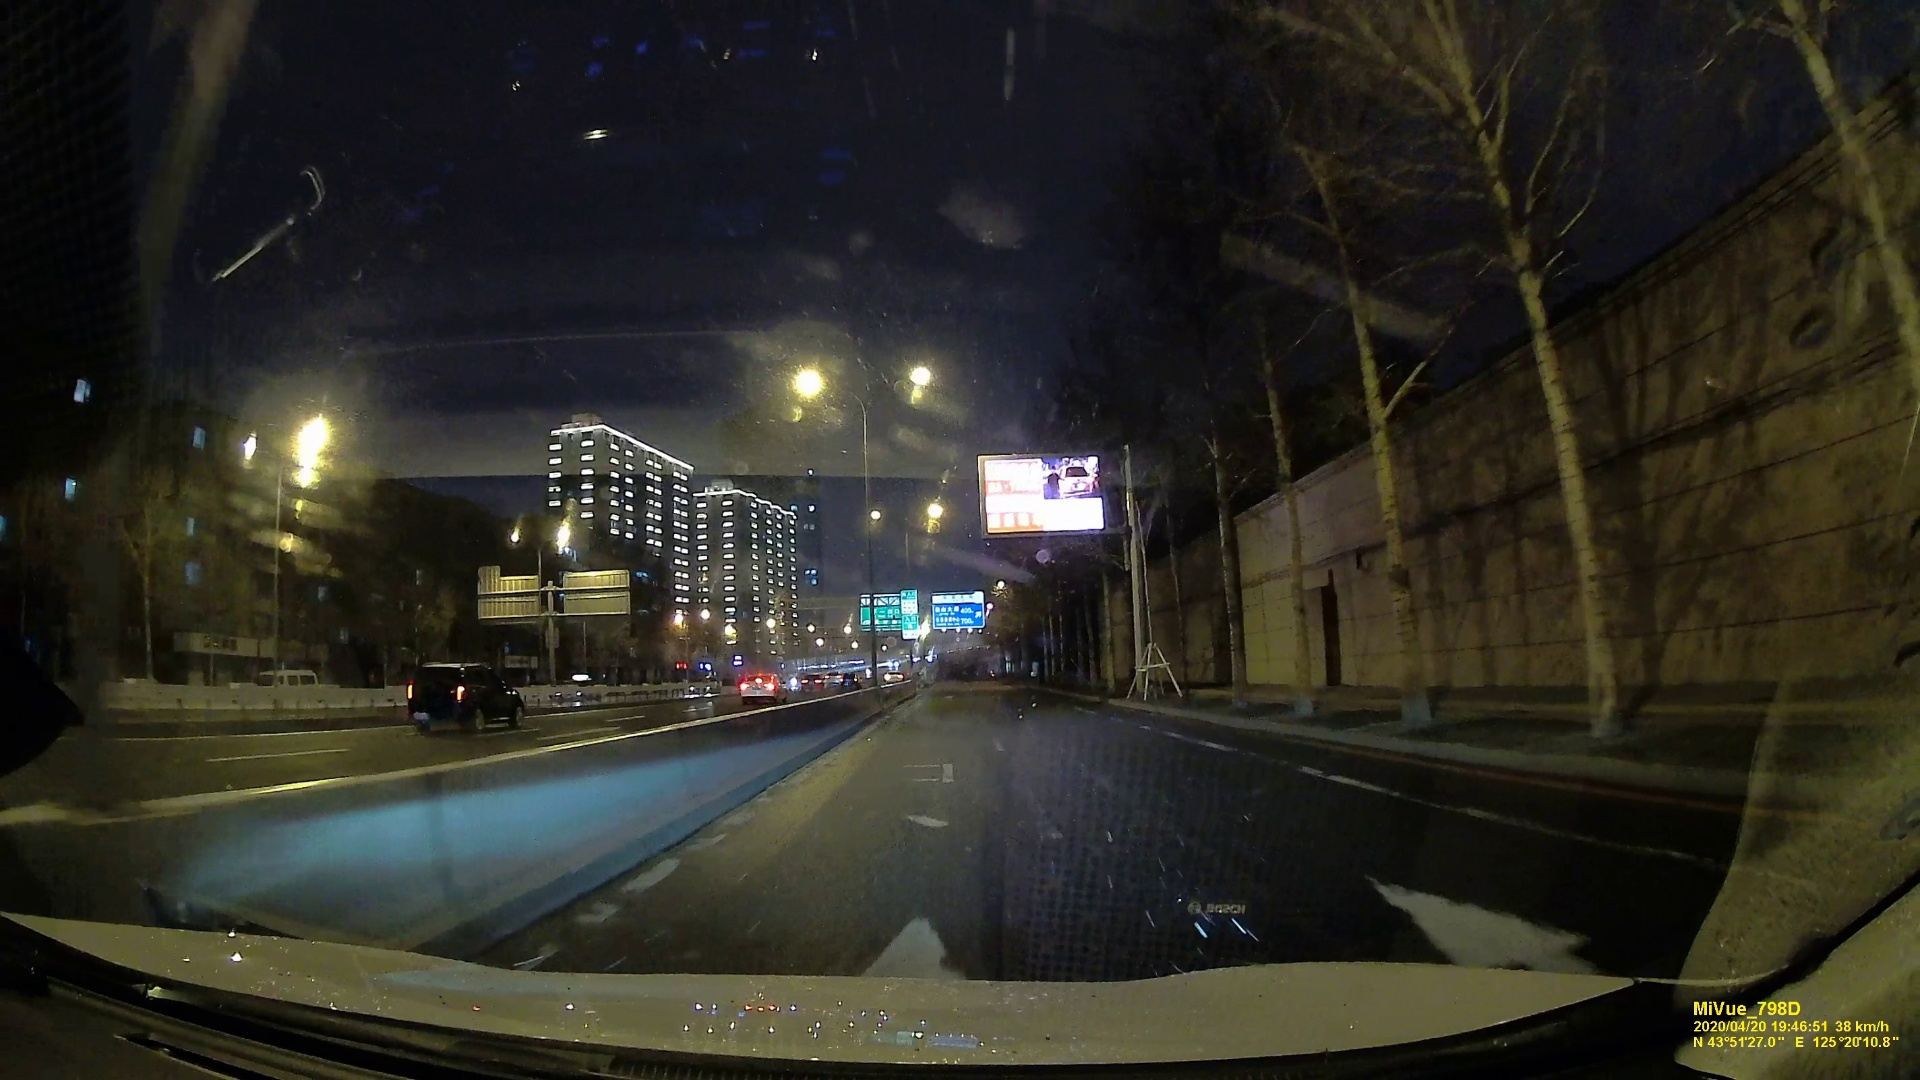minibus: (240, 667, 322, 692)
traffic_sign: (861, 592, 916, 630), (932, 592, 981, 624)
vehicle: (402, 661, 524, 731), (737, 673, 785, 702), (800, 673, 824, 692)
